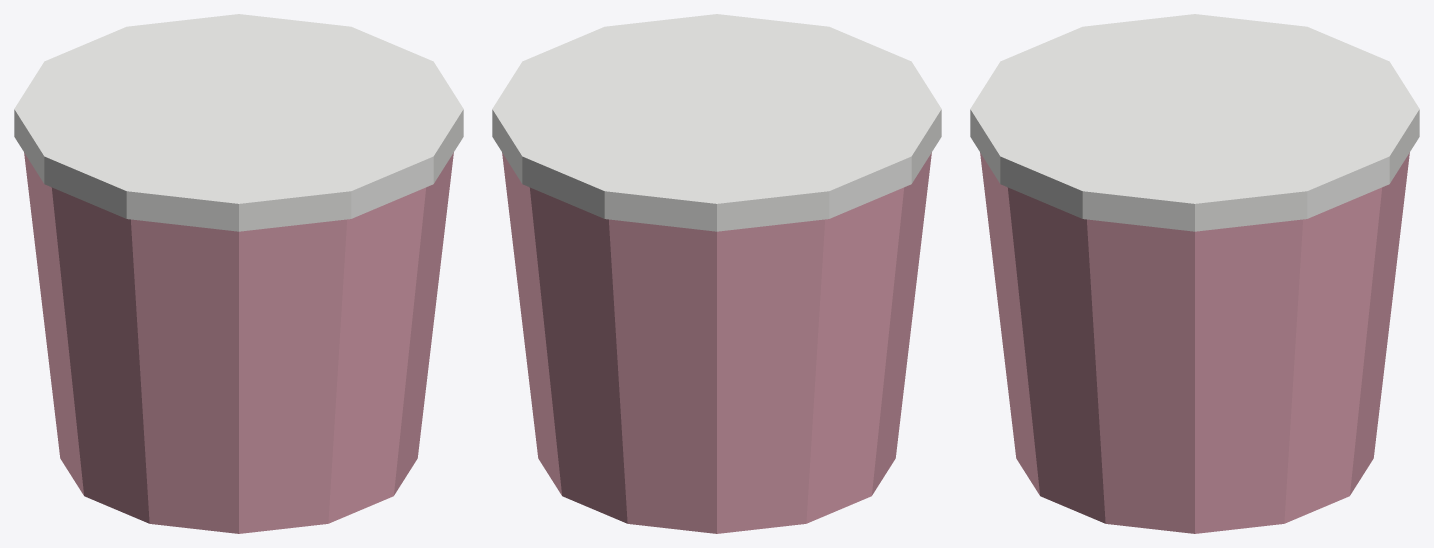
Rendered from sm_product_ice_cream_tub.glb.
3 renders of one model, left to right at view 1: azimuth 30°, elevation 25°; view 2: azimuth 150°, elevation 25°; view 3: azimuth 270°, elevation 25°, orthographic.
Visible parts, largest first — view 1: ice_cream_tub_0, ice_cream_tub_1; view 2: ice_cream_tub_0, ice_cream_tub_1; view 3: ice_cream_tub_0, ice_cream_tub_1.
Part boxes in pixels (x1,y1,x2,y2): ice_cream_tub_0: (24,152,453,533); ice_cream_tub_1: (14,14,463,231); ice_cream_tub_0: (502,152,931,533); ice_cream_tub_1: (492,14,941,231); ice_cream_tub_0: (980,152,1409,533); ice_cream_tub_1: (970,14,1419,231).
Size of what is drawn, in the model's own units: 0.176 by 0.151 by 0.176.
